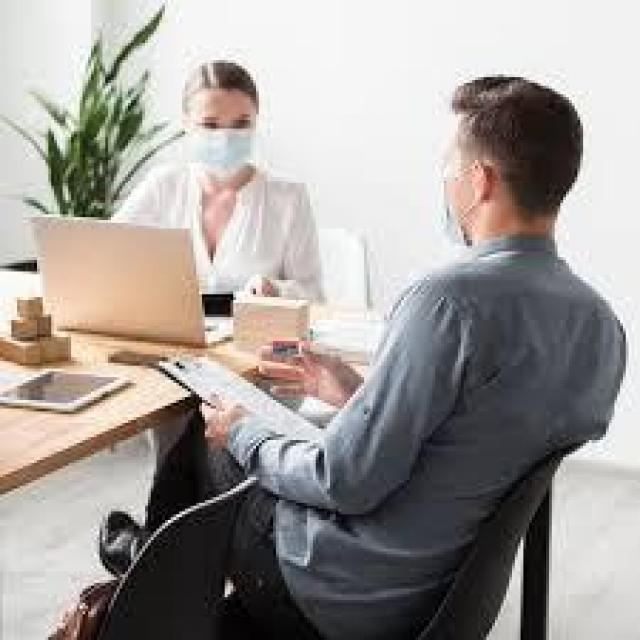person: (307, 49, 637, 632), (74, 14, 356, 323)
